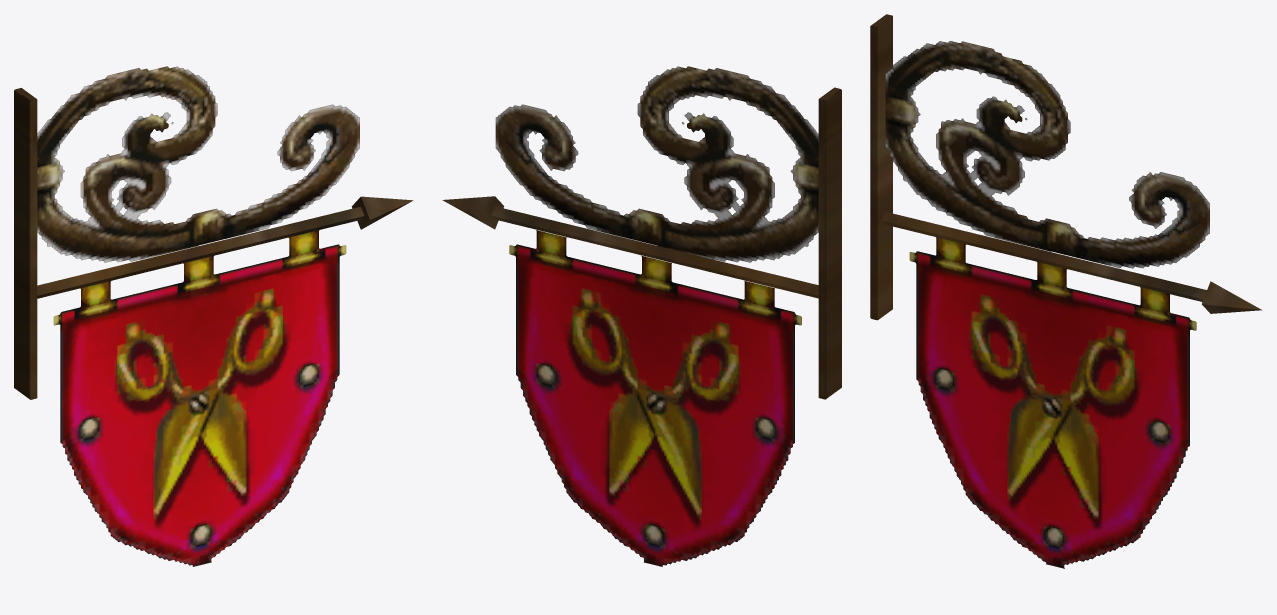
The model's file is stsi1.dae.
3 renders of one model, left to right at view 1: azimuth 30°, elevation 25°; view 2: azimuth 150°, elevation 25°; view 3: azimuth 330°, elevation 25°, orthographic.
Parts seen in each view (by area): view 1: signeboard; view 2: signeboard; view 3: signeboard.
Part boxes in pixels (x1=…): signeboard: x1=14, y1=66, x2=413, y2=566; signeboard: x1=442, y1=66, x2=841, y2=566; signeboard: x1=870, y1=14, x2=1261, y2=568.
Size of the model in its own units: 0.5642 by 0.0459 by 0.7062.
1 material, 1 textured.
